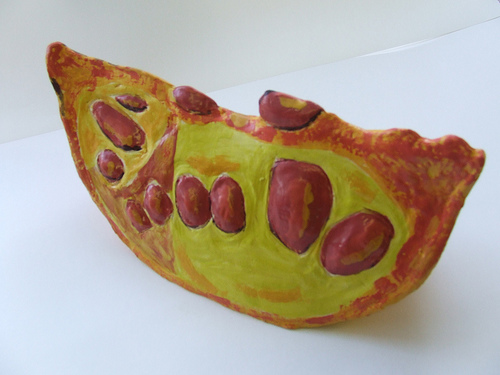pomogranate: (47, 41, 486, 332)
